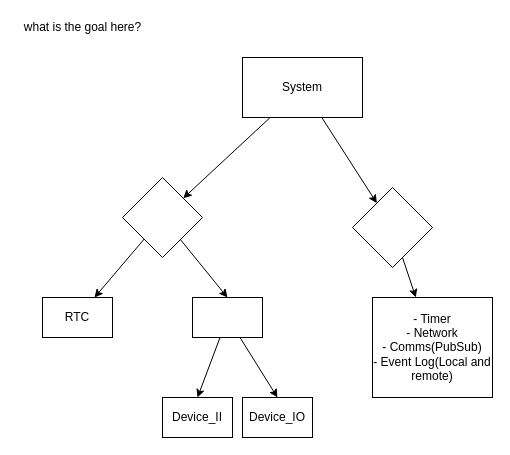
Image size: 510x455. Some labels were removed from this diagram. The shapes that lost their labels are listed below. From the top down, each one's centre as x and y in pixels, then its label:
(162,217): Hardware
(392,227): Software
(227,317): DeviceIO
